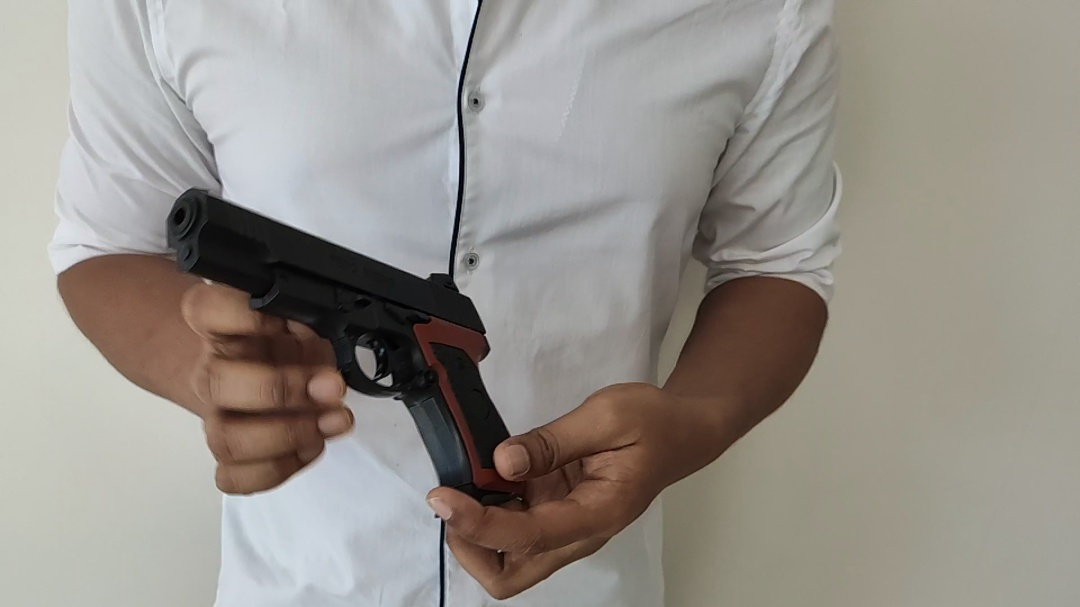gun: (118, 31, 1001, 555)
